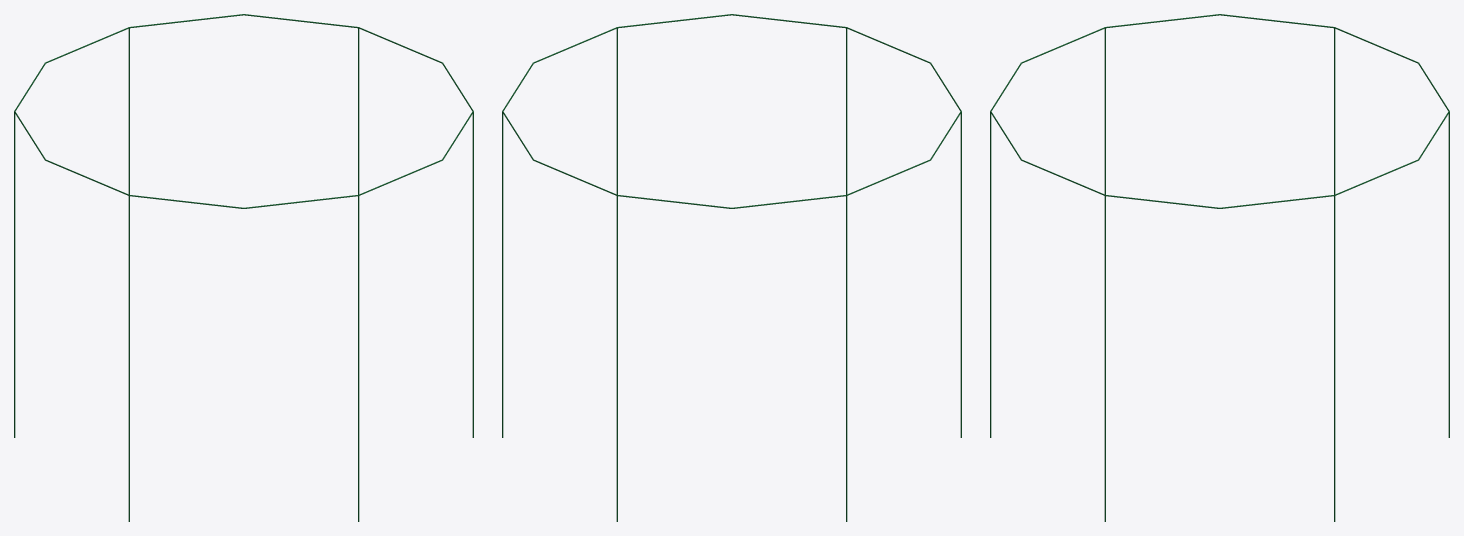
The model's file is range_air.obj.
3 views of the same model, side by side, from view 1: azimuth 30°, elevation 25°; view 2: azimuth 150°, elevation 25°; view 3: azimuth 270°, elevation 25° (orthographic).
Parts seen in each view (by area): view 1: Range_upright.003, Range_upright.004, Range_upright.002, Range_upright.005; view 2: Range_upright, Range_upright.005, Range_upright.001, Range_upright.004; view 3: Range_upright.001, Range_upright.002, Range_upright, Range_upright.003.
Part boxes in pixels (left/top/right/bottom): Range_upright.003: left=358, top=196, right=359, bottom=521; Range_upright.004: left=128, top=196, right=129, bottom=521; Range_upright.002: left=472, top=112, right=473, bottom=437; Range_upright.005: left=14, top=112, right=15, bottom=437; Range_upright: left=616, top=196, right=617, bottom=521; Range_upright.005: left=846, top=196, right=847, bottom=521; Range_upright.001: left=502, top=112, right=503, bottom=437; Range_upright.004: left=960, top=112, right=961, bottom=437; Range_upright.001: left=1334, top=196, right=1335, bottom=521; Range_upright.002: left=1104, top=196, right=1105, bottom=521; Range_upright: left=1448, top=112, right=1449, bottom=437; Range_upright.003: left=990, top=112, right=991, bottom=437.
Bounding box in the file's own units: 2.01 × 1.57 × 2.01.
